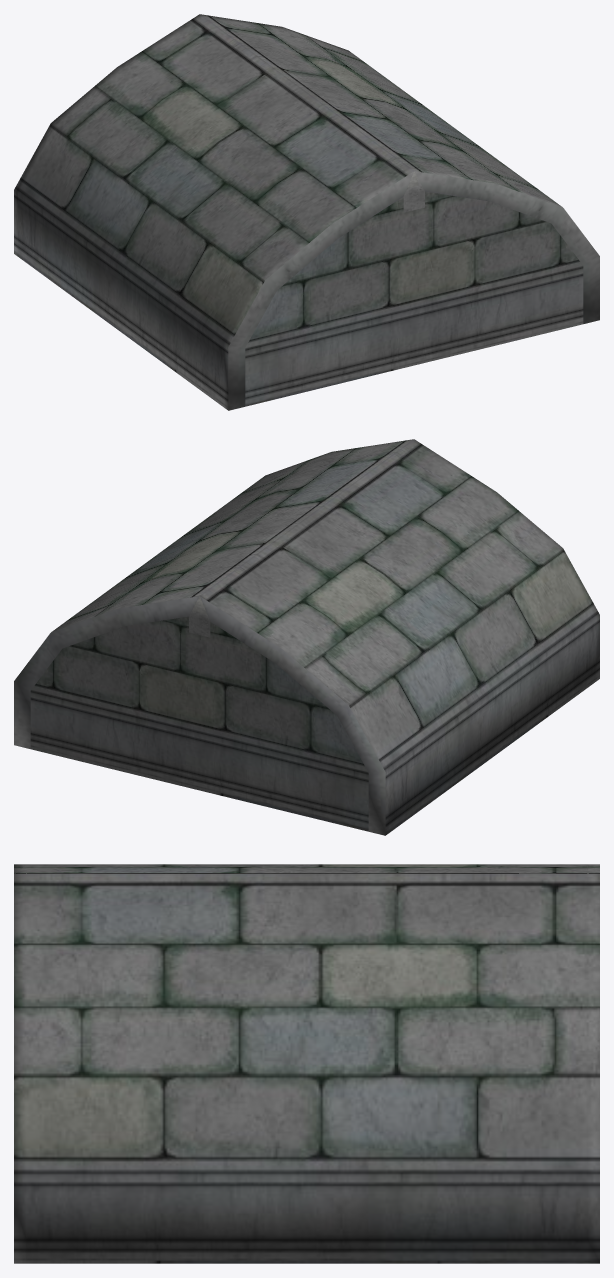
Rendered from barrel_ceiling_large_03.glb.
3 views of the same model, one above another, from view 1: azimuth 30°, elevation 25°; view 2: azimuth 150°, elevation 25°; view 3: azimuth 270°, elevation 25° (orthographic). The views are drawn at different scales.
Visible parts, largest first — view 1: barrel_ceiling_large_03; view 2: barrel_ceiling_large_03; view 3: barrel_ceiling_large_03.
Part boxes in pixels (x1=…): barrel_ceiling_large_03: x1=14, y1=14, x2=599, y2=410; barrel_ceiling_large_03: x1=14, y1=439, x2=599, y2=835; barrel_ceiling_large_03: x1=14, y1=864, x2=599, y2=1263.
Bounding box in the file's own units: 4 × 2 × 4.
Materials: 1 (1 with a texture image).
